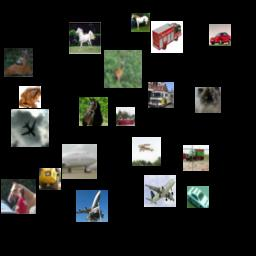airplane: (11, 109, 49, 147), (62, 144, 97, 179), (76, 190, 108, 222), (144, 175, 176, 207), (132, 137, 161, 166)
automobile: (209, 24, 231, 46), (187, 186, 209, 208)
cat: (195, 87, 221, 113)
deer: (104, 50, 142, 88), (4, 48, 33, 77)
frog: (19, 86, 41, 108)
ship: (116, 107, 135, 126)
truck: (151, 21, 183, 53), (183, 145, 209, 171), (148, 82, 174, 108), (39, 168, 61, 190)
